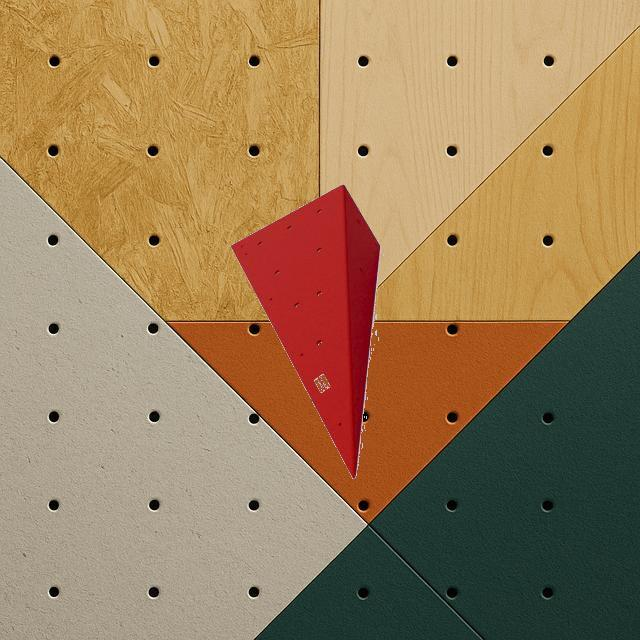Volume: (229, 184, 379, 476)
